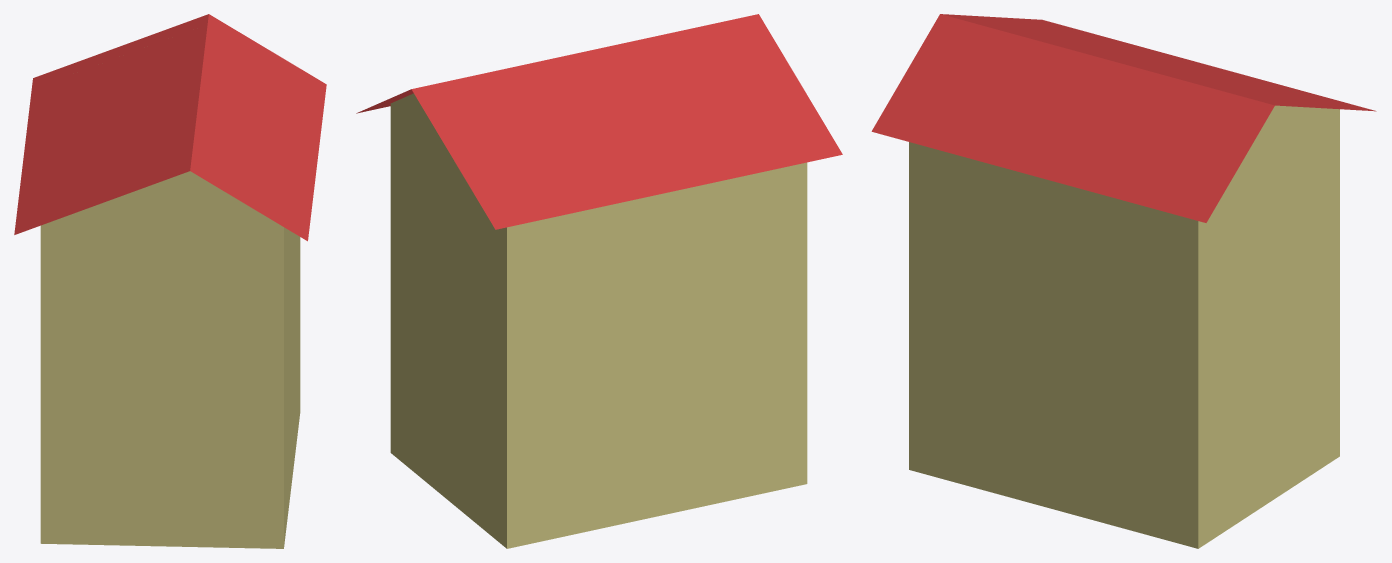
3 renders of one model, left to right at view 1: azimuth 30°, elevation 25°; view 2: azimuth 150°, elevation 25°; view 3: azimuth 270°, elevation 25°, orthographic. The views are drawn at different scales.
Visible parts, largest first — view 1: group_5, group_3, group_4; view 2: group_5, group_3, group_4; view 3: group_5, group_3, group_4.
Boxes of the visible parts, x1,y1,x2,y2 form: group_5: [40, 171, 300, 548]; group_3: [14, 14, 326, 241]; group_4: [14, 14, 208, 234]; group_5: [390, 93, 807, 548]; group_3: [435, 14, 842, 204]; group_4: [356, 14, 840, 229]; group_5: [909, 105, 1339, 548]; group_3: [871, 14, 1338, 222]; group_4: [942, 14, 1376, 111].
Size of the model in its own units: 13.31 by 14 by 12.65.
